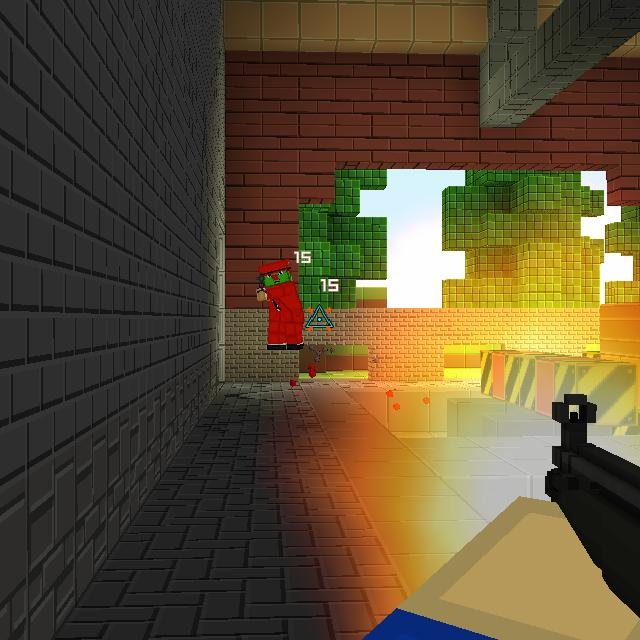enemy: (256, 256, 306, 351)
